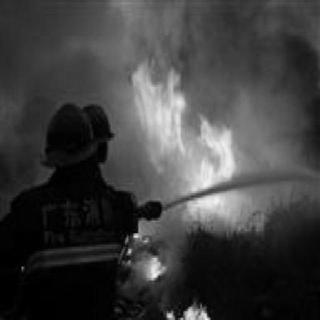Fire: (138, 234, 175, 290)
